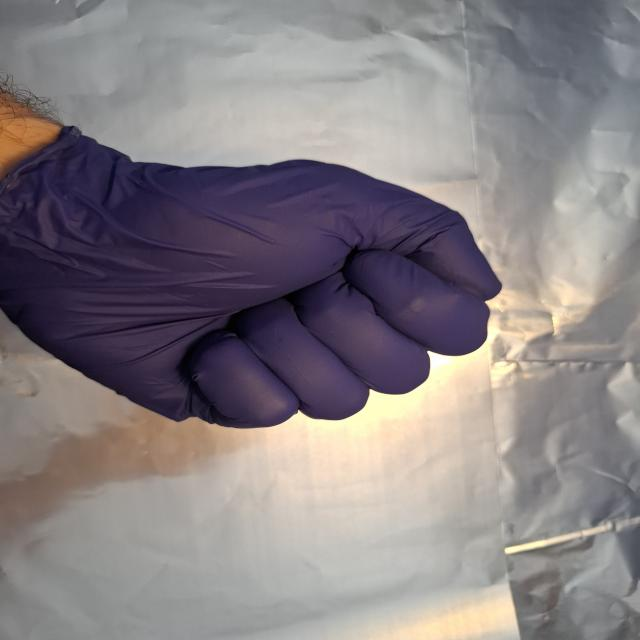glove_on: (6, 121, 508, 433)
